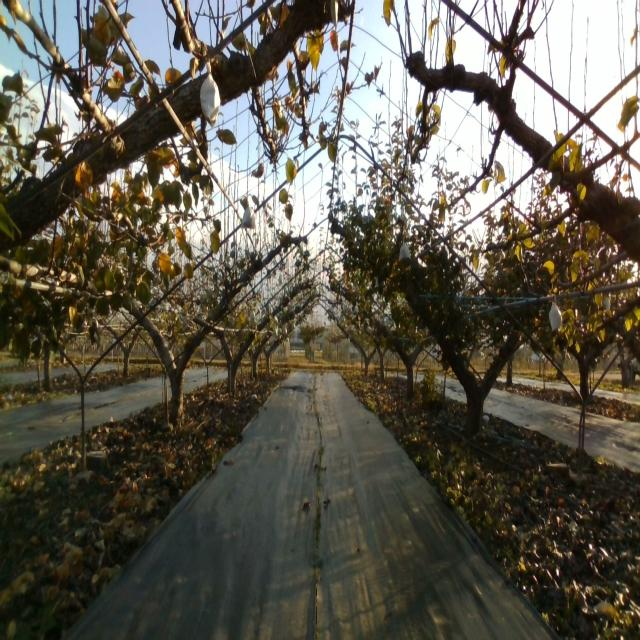pearbags: (200, 61, 222, 129), (240, 205, 257, 229), (549, 302, 562, 331), (398, 244, 411, 262)
